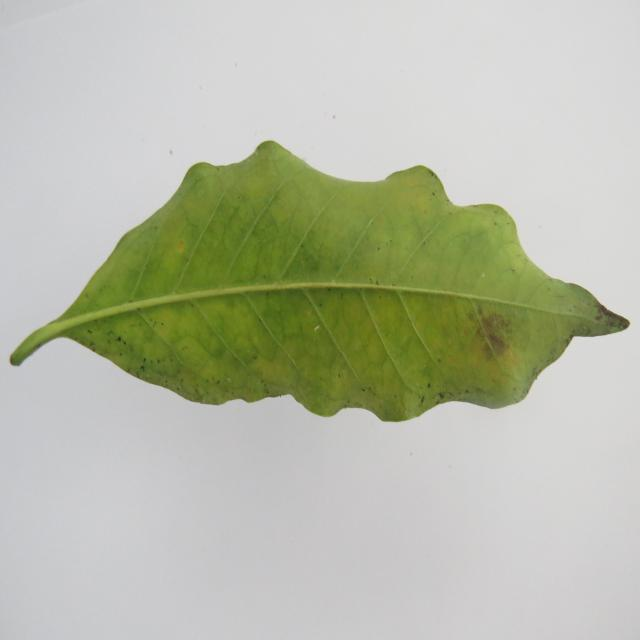DeficienciaNutricional-Calcio: (10, 142, 629, 422)
